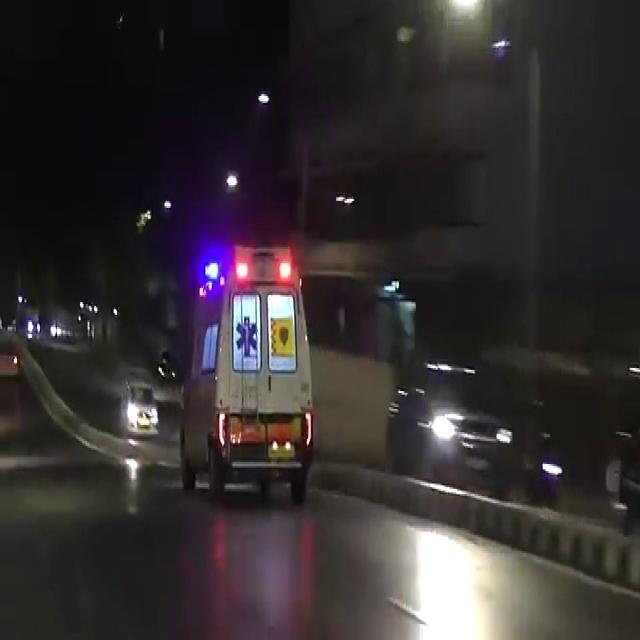ambulance: (185, 224, 323, 515)
